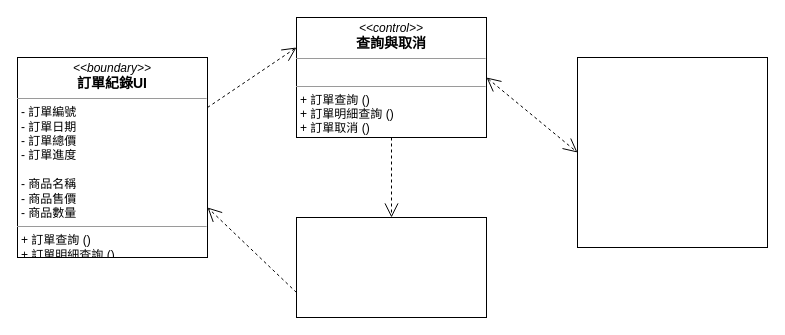
Image size: 785x335. Some labels were removed from this diagram. Each missing label, with the centre of its shape:
<<control>> 顯示 + 載入訂單紀錄UI (): (x=391, y=267)
<<entity>> 訂單資料 - 訂單編號 - 訂單日期 - 訂單總價 - 訂單進度 - 商品名稱 - 商品售價 - 商品數量 + 讀取訂單資料 (): (x=672, y=152)
